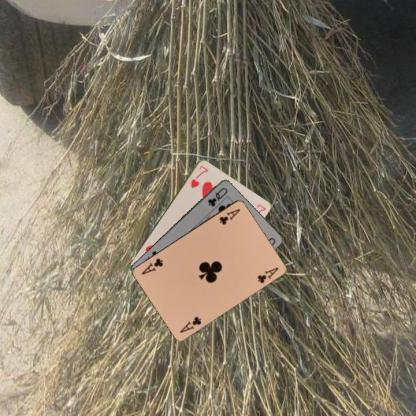7h: (188, 162, 209, 189)
Ac: (177, 314, 203, 334), (217, 206, 242, 226)
Qc: (205, 184, 229, 208)
